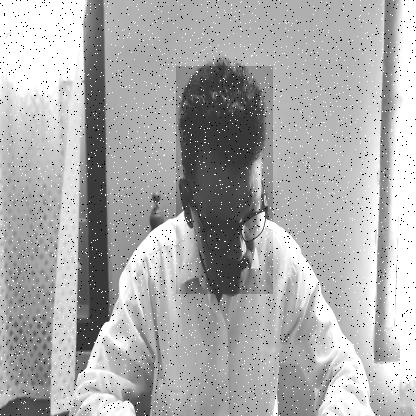Distracted: (176, 66, 273, 294)
